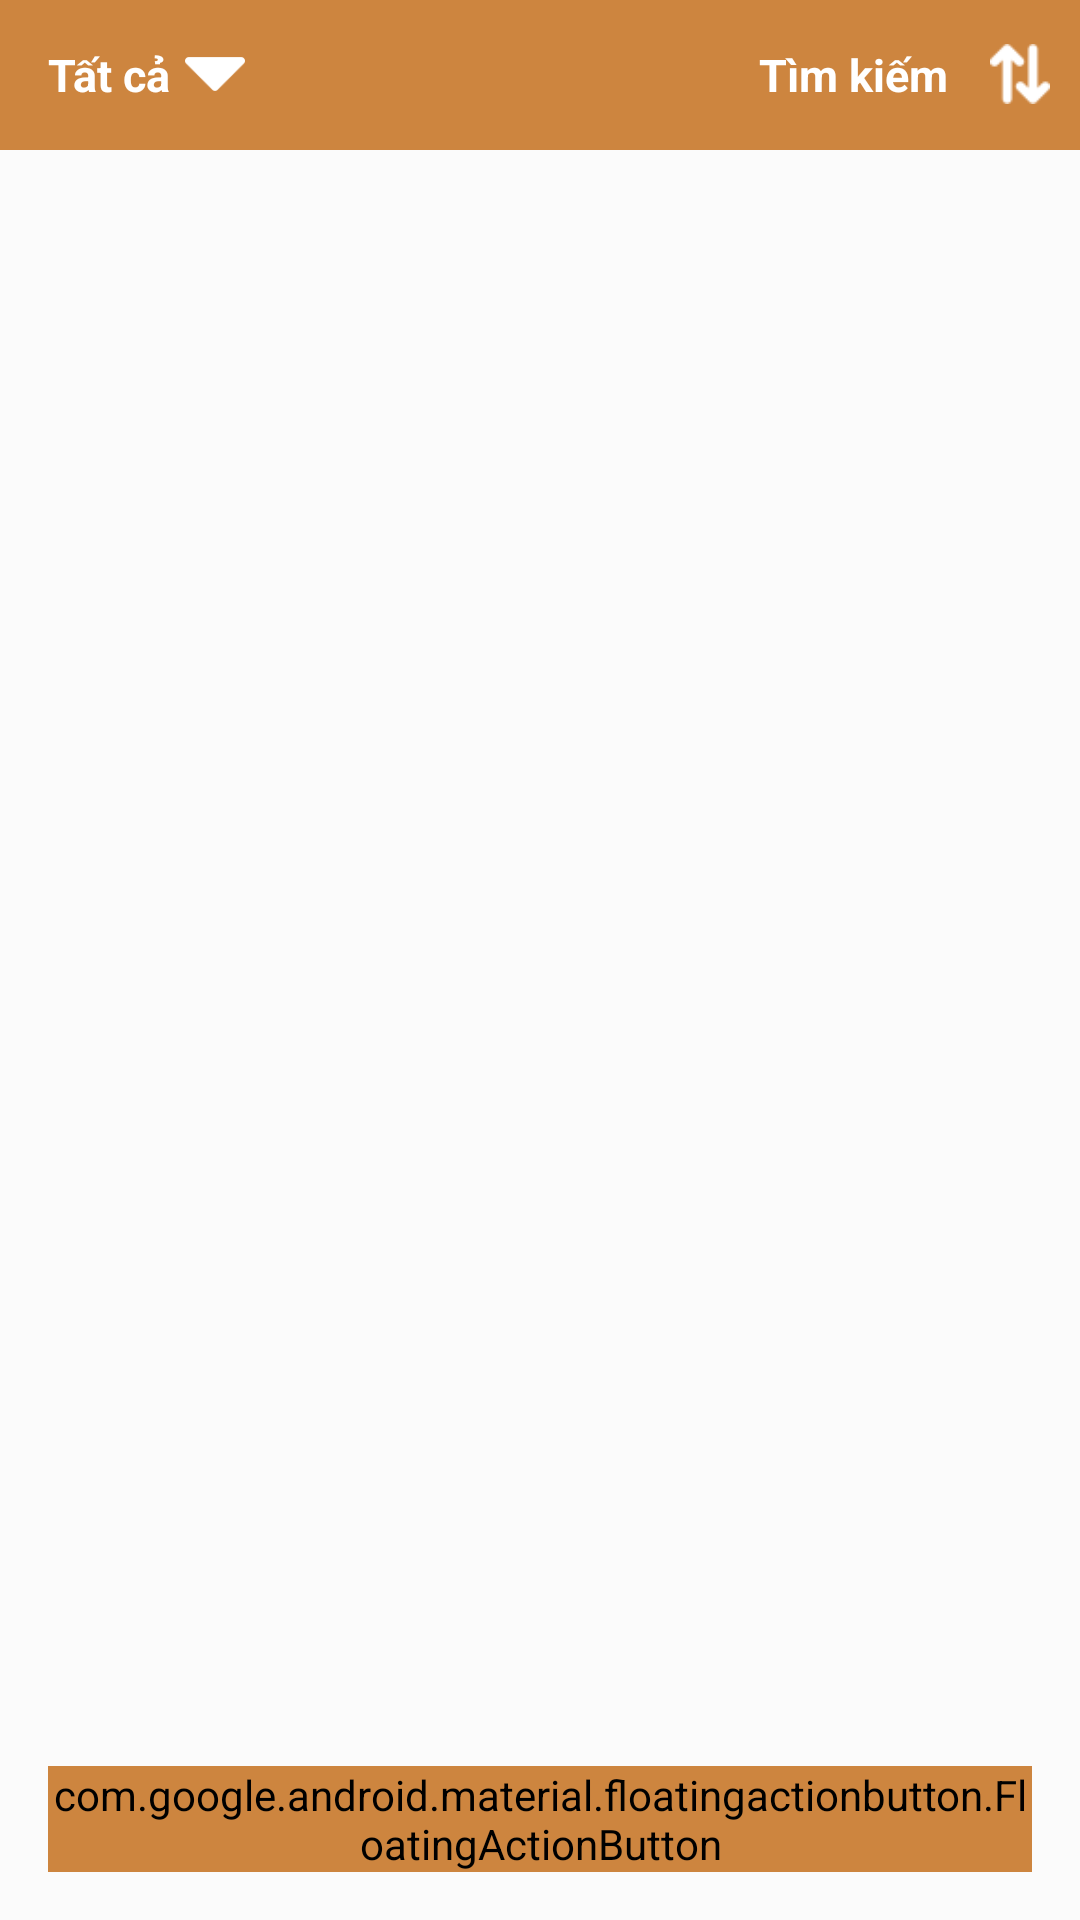

Where icons sit on this 1080*1920 app screen, as (left=x1, top=y1, right=x2, bottom=y2):
down: (left=185, top=57, right=245, bottom=91)
